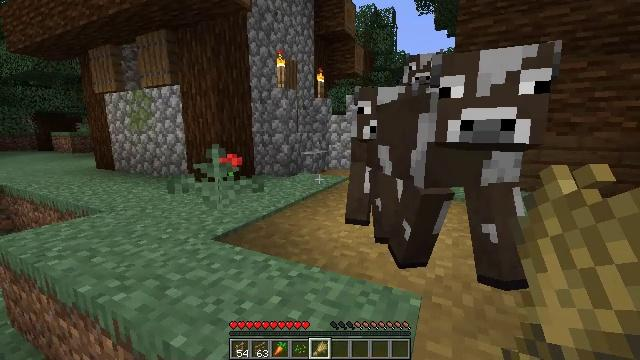cow: (395, 39, 555, 277), (346, 81, 415, 235), (402, 50, 444, 90)
